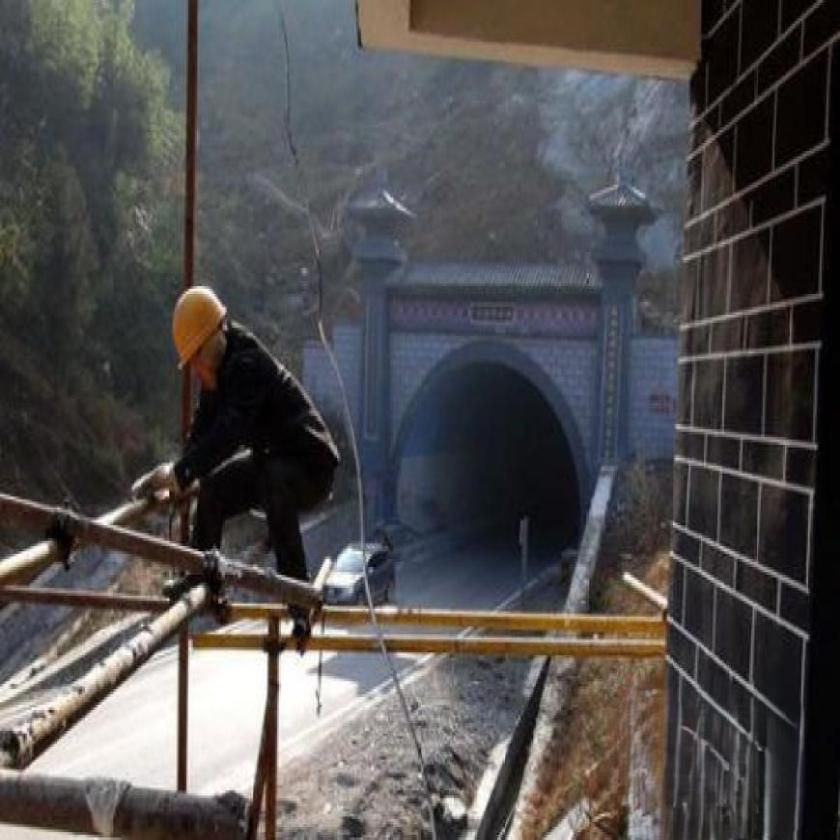Con_casco: (161, 282, 234, 386)
